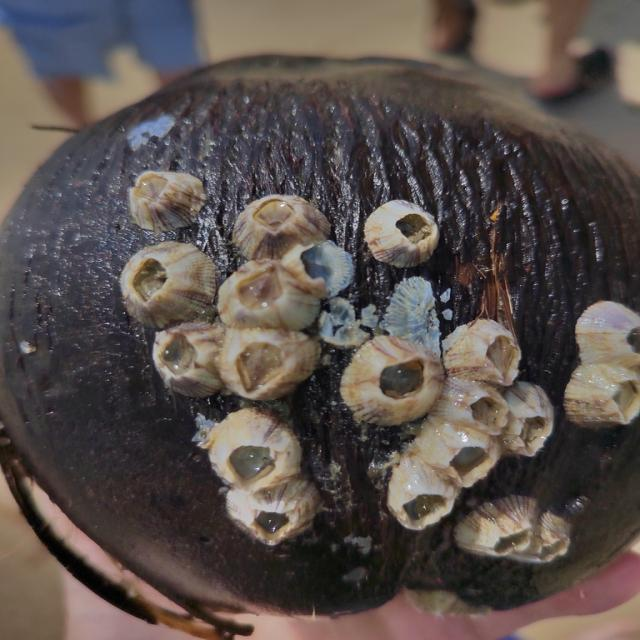barnacles: (340, 335, 440, 425), (118, 242, 224, 326), (196, 412, 304, 494), (223, 335, 327, 410), (217, 262, 324, 332), (104, 164, 211, 232), (364, 197, 451, 279), (230, 185, 327, 258), (224, 488, 327, 556), (567, 354, 640, 446), (444, 317, 532, 387), (574, 290, 640, 376), (148, 326, 218, 406), (452, 504, 542, 565), (382, 466, 454, 535), (427, 428, 498, 490), (501, 388, 557, 463), (442, 382, 512, 441), (524, 509, 584, 575)
